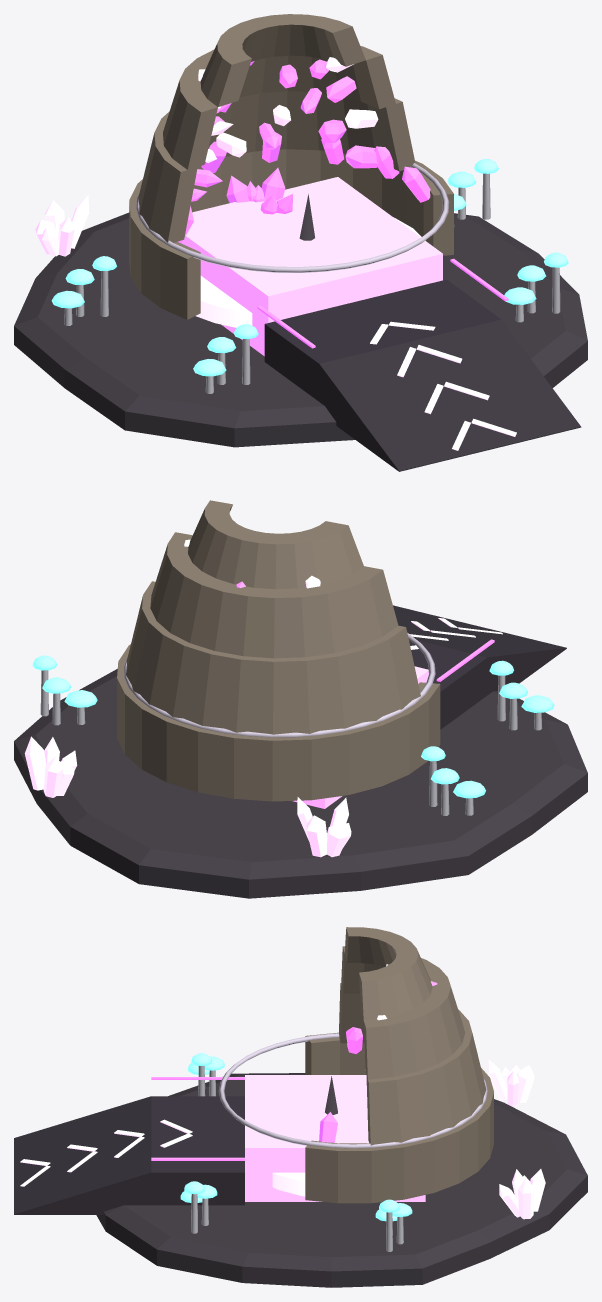
File: GeodeCavernFurnace_Roblox.fbx
3 renders of one model, top to bottom at view 1: azimuth 30°, elevation 25°; view 2: azimuth 150°, elevation 25°; view 3: azimuth 270°, elevation 25°, orthographic. The views are drawn at different scales.
Visible parts, largest first — view 1: CaveRock, GeodeShell, Conveyor, BurnZone, Amethyst, PaleAmethyst, GlowMushroom, MushroomStem, AgateBand, CrystalLiquid; view 2: GeodeShell, CaveRock, Conveyor, PaleAmethyst, GlowMushroom, MushroomStem, AgateBand; view 3: CaveRock, GeodeShell, Conveyor, BurnZone, PaleAmethyst, AgateBand, GlowMushroom, Amethyst, MushroomStem, CrystalLiquid.
Part boxes in pixels (bbox=[...]): CaveRock: bbox=[14, 194, 587, 447]; GeodeShell: bbox=[129, 14, 453, 319]; Conveyor: bbox=[264, 279, 581, 471]; BurnZone: bbox=[181, 177, 442, 356]; Amethyst: bbox=[178, 59, 508, 348]; PaleAmethyst: bbox=[35, 57, 516, 450]; GlowMushroom: bbox=[51, 159, 568, 376]; MushroomStem: bbox=[64, 173, 560, 393]; AgateBand: bbox=[136, 163, 449, 272]; CrystalLiquid: bbox=[196, 217, 421, 327]; GeodeShell: bbox=[117, 500, 440, 801]; CaveRock: bbox=[14, 669, 587, 898]; Conveyor: bbox=[393, 605, 566, 729]; PaleAmethyst: bbox=[24, 539, 502, 857]; GlowMushroom: bbox=[32, 655, 554, 798]; MushroomStem: bbox=[40, 670, 542, 815]; AgateBand: bbox=[123, 633, 435, 737]; CaveRock: bbox=[96, 1073, 587, 1287]; GeodeShell: bbox=[305, 927, 493, 1203]; Conveyor: bbox=[14, 1096, 244, 1214]; BurnZone: bbox=[245, 1075, 425, 1201]; PaleAmethyst: bbox=[20, 964, 545, 1219]; AgateBand: bbox=[218, 1033, 487, 1148]; GlowMushroom: bbox=[180, 1053, 412, 1221]; Amethyst: bbox=[151, 981, 437, 1160]; MushroomStem: bbox=[191, 1066, 403, 1251]; CrystalLiquid: bbox=[272, 1172, 305, 1196].
Size of the model in its own units: 1302 by 768 by 1590.
